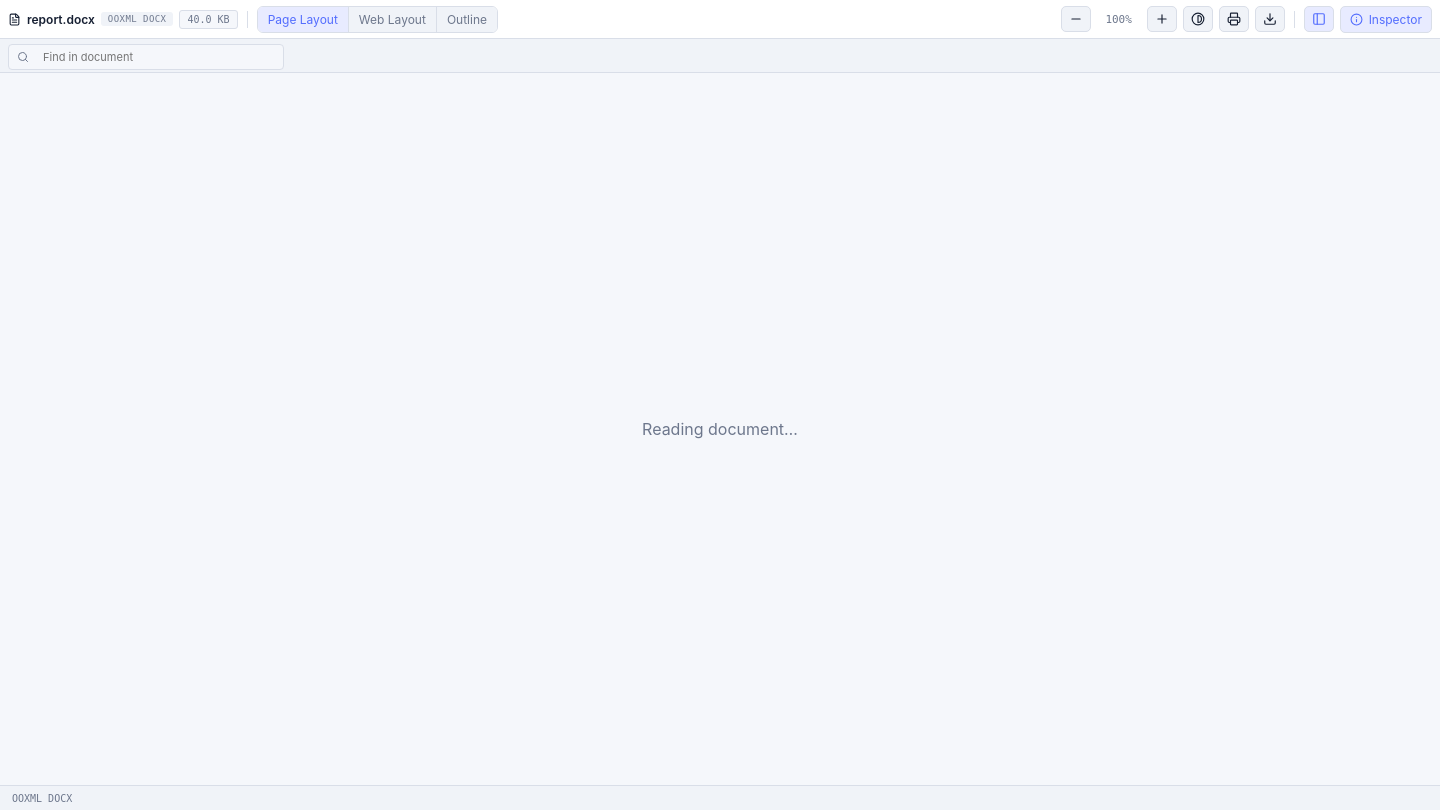
Test case: document viewer › filters the page to matching blocks
The width and height of the screenshot is (1440, 810).
In the field with placeholder "Find in document": (155, 57) [35,45,275,69], type "revenue"
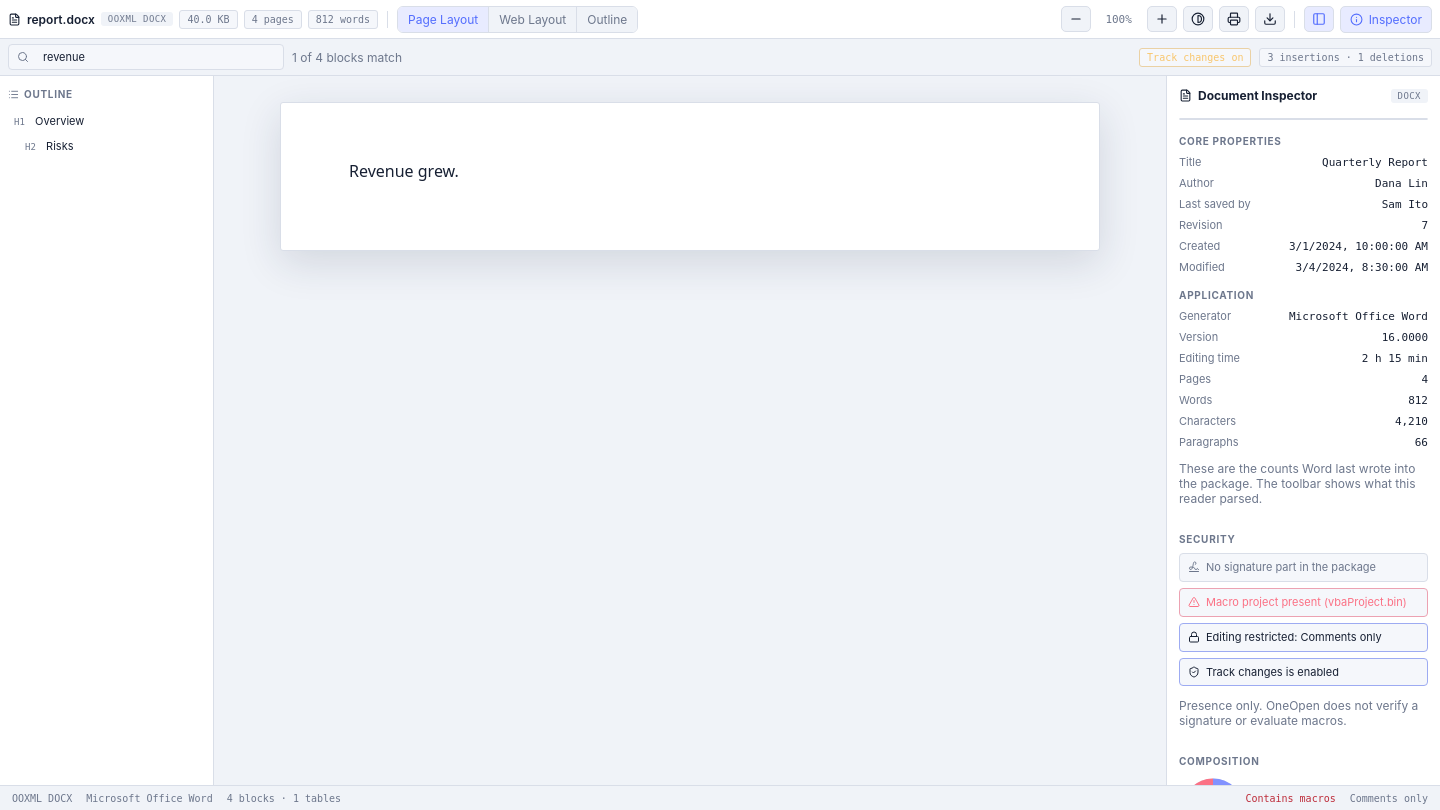
Check: the text "Revenue grew." is shown, box [349,160,459,182]
